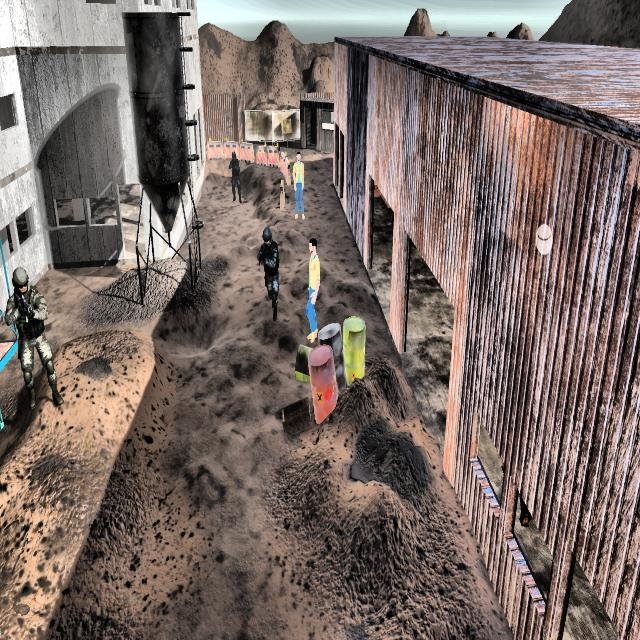bad: (1, 255, 63, 423), (248, 218, 285, 337), (227, 142, 242, 210)
good: (300, 230, 321, 340), (292, 145, 306, 222)
